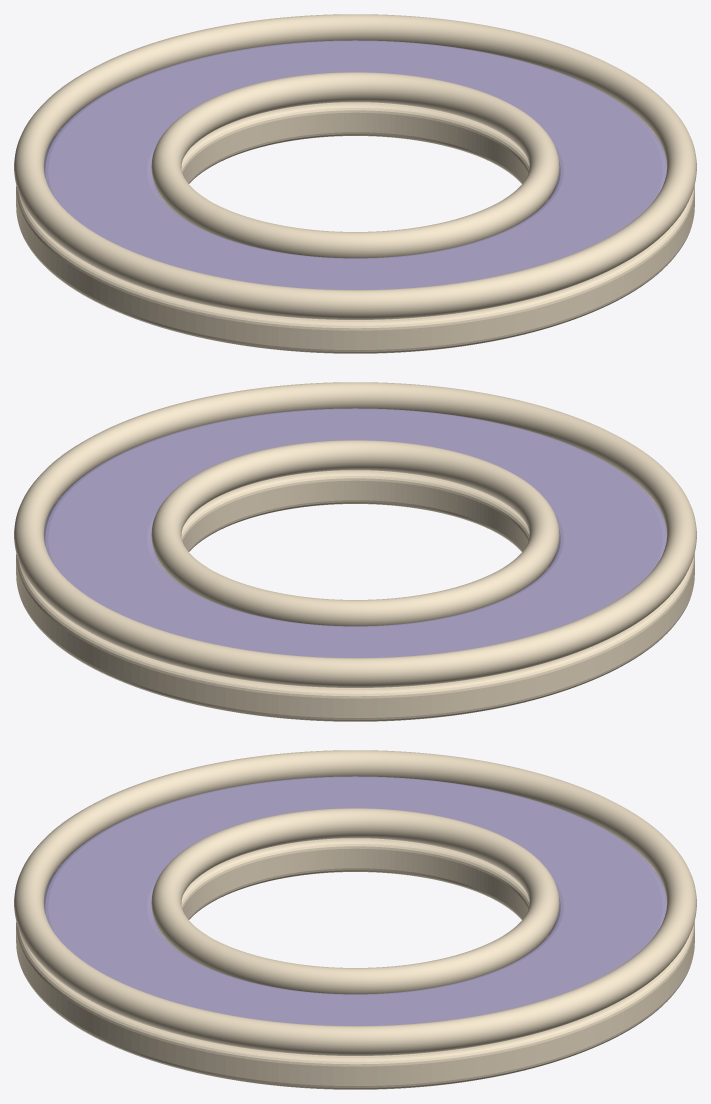
File: RingInner.fbx
3 renders of one model, top to bottom at view 1: azimuth 30°, elevation 25°; view 2: azimuth 150°, elevation 25°; view 3: azimuth 270°, elevation 25°, orthographic.
Visible parts, largest first — view 1: Inner Ring Lavender Trough, Inner Ring Outer Rail, Inner Ring Ivory Base, Inner Ring Inner Rail; view 2: Inner Ring Lavender Trough, Inner Ring Outer Rail, Inner Ring Ivory Base, Inner Ring Inner Rail; view 3: Inner Ring Lavender Trough, Inner Ring Outer Rail, Inner Ring Ivory Base, Inner Ring Inner Rail.
Boxes of the visible parts, left/top/right/bottom form: Inner Ring Lavender Trough: left=44, top=40, right=666, bottom=289; Inner Ring Outer Rail: left=14, top=14, right=696, bottom=319; Inner Ring Ivory Base: left=16, top=102, right=694, bottom=353; Inner Ring Inner Rail: left=151, top=72, right=559, bottom=258; Inner Ring Lavender Trough: left=44, top=408, right=666, bottom=657; Inner Ring Outer Rail: left=14, top=382, right=696, bottom=687; Inner Ring Ivory Base: left=16, top=470, right=694, bottom=721; Inner Ring Inner Rail: left=151, top=440, right=559, bottom=626; Inner Ring Lavender Trough: left=44, top=776, right=666, bottom=1025; Inner Ring Outer Rail: left=14, top=750, right=696, bottom=1055; Inner Ring Ivory Base: left=16, top=838, right=694, bottom=1089; Inner Ring Inner Rail: left=151, top=808, right=559, bottom=994.
Size of the model in its own units: 4.77 by 0.455 by 4.77.
